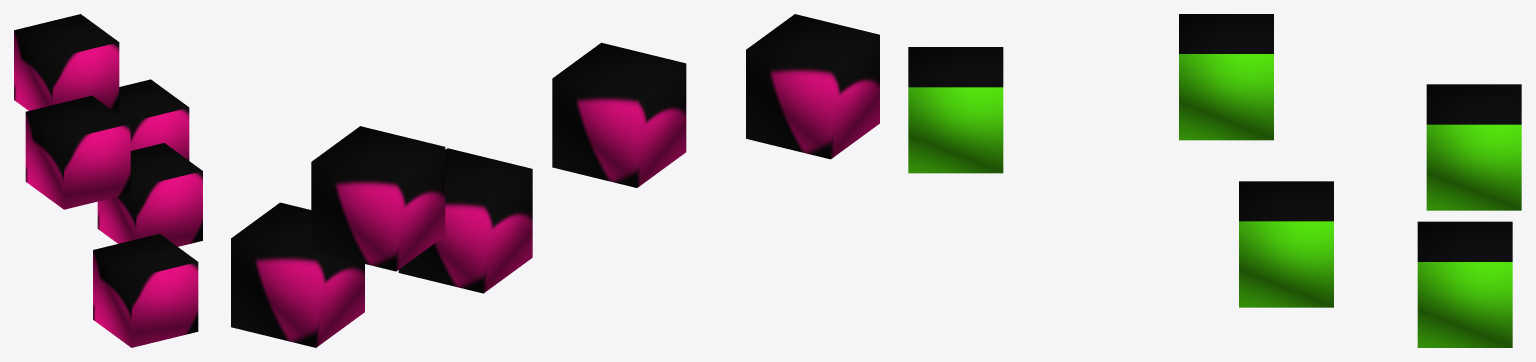
The model's file is Dirty Cube 01.glb.
3 views of the same model, side by side, from view 1: azimuth 30°, elevation 25°; view 2: azimuth 150°, elevation 25°; view 3: azimuth 270°, elevation 25° (orthographic). The views are drawn at different scales.
Parts seen in each view (by area): view 1: Cube.003, Cube.004, Cube.002, Cube, Cube.001; view 2: Cube.002, Cube.003, Cube.004, Cube.001, Cube; view 3: Cube.002, Cube.001, Cube.004, Cube, Cube.003.
Part boxes in pixels (bbox=[...]): Cube.003: bbox=[25, 95, 130, 209]; Cube.004: bbox=[93, 233, 198, 347]; Cube.002: bbox=[14, 14, 119, 112]; Cube: bbox=[97, 143, 202, 246]; Cube.001: bbox=[116, 79, 189, 160]; Cube.002: bbox=[311, 126, 445, 271]; Cube.003: bbox=[552, 42, 686, 187]; Cube.004: bbox=[746, 14, 879, 159]; Cube.001: bbox=[231, 202, 364, 347]; Cube: bbox=[398, 148, 532, 293]; Cube.002: bbox=[1426, 84, 1521, 210]; Cube.001: bbox=[1417, 221, 1512, 347]; Cube.004: bbox=[908, 47, 1003, 173]; Cube: bbox=[1239, 181, 1333, 307]; Cube.003: bbox=[1179, 14, 1273, 140].
Size of the model in its own units: 7.93 by 4.65 by 12.92.
3 materials, 2 textured.
